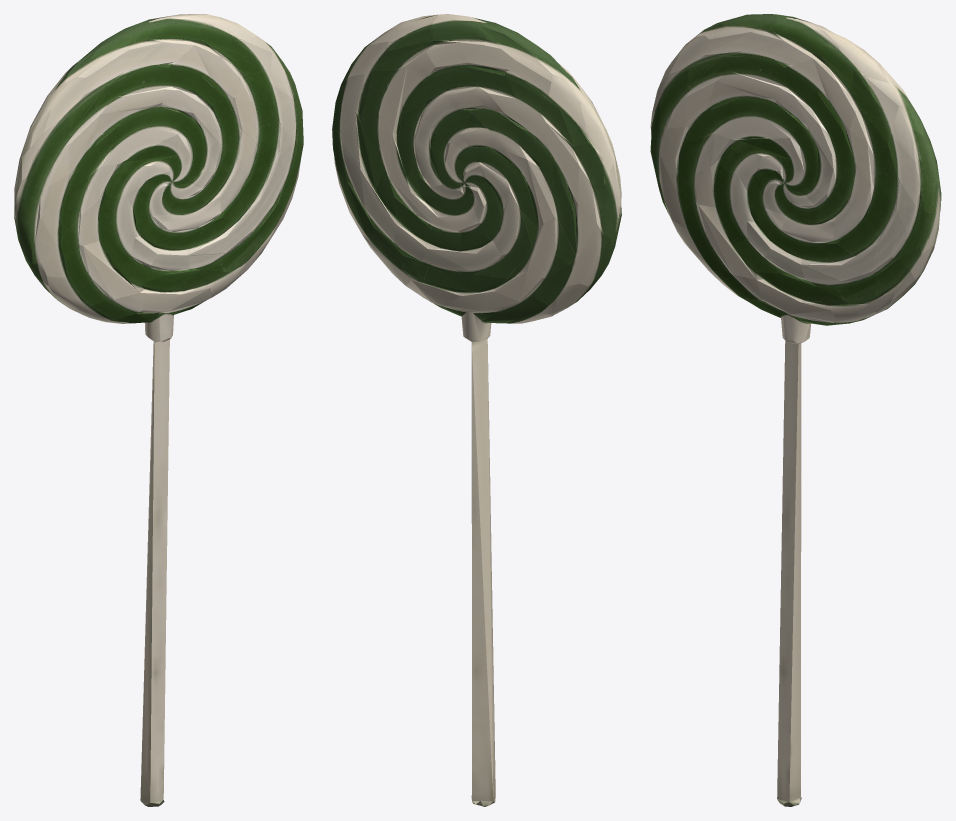
Rendered from lollipop.glb.
The picture shows the model from 3 angles, left to right: view 1: azimuth 30°, elevation 25°; view 2: azimuth 150°, elevation 25°; view 3: azimuth 330°, elevation 25°; orthographic projection.
Parts seen in each view (by area): view 1: output_unwrapped; view 2: output_unwrapped; view 3: output_unwrapped.
Part boxes in pixels (left/top/right/bottom): output_unwrapped: left=14, top=14, right=303, bottom=806; output_unwrapped: left=332, top=14, right=621, bottom=806; output_unwrapped: left=650, top=14, right=941, bottom=806.
Bounding box in the file's own units: 0.7308 × 1.9 × 0.1116.
Materials: 1 (1 with a texture image).
